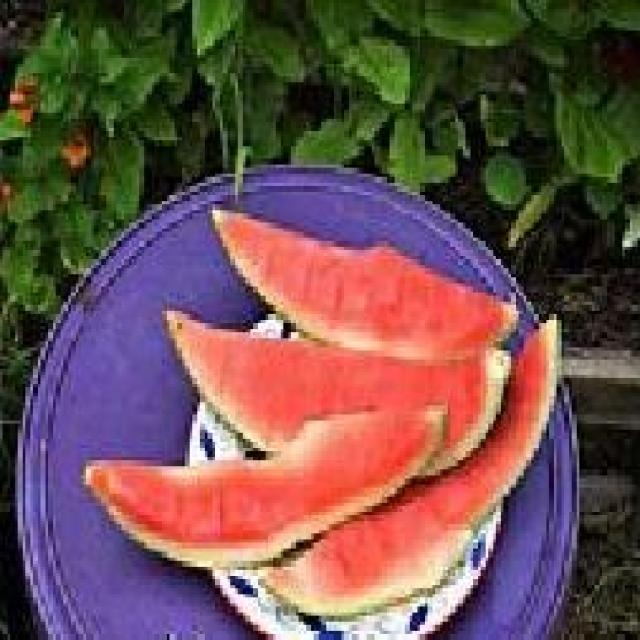Wet Waste: (81, 201, 569, 610)
